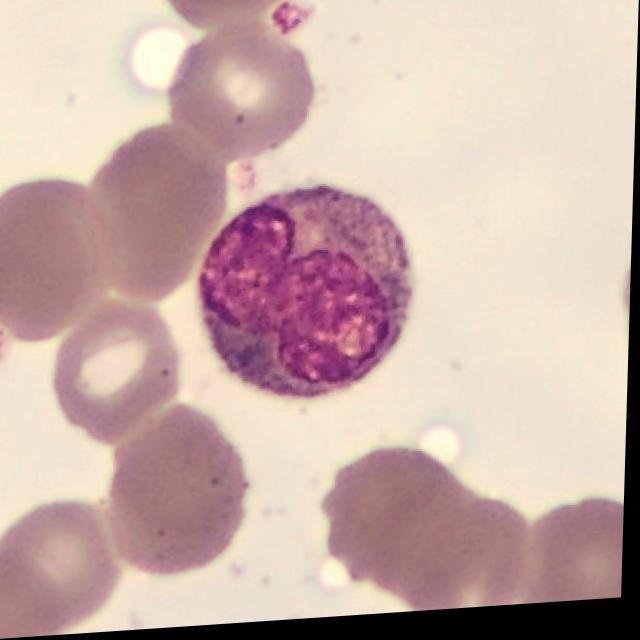Metamielocito: (201, 192, 411, 400)
